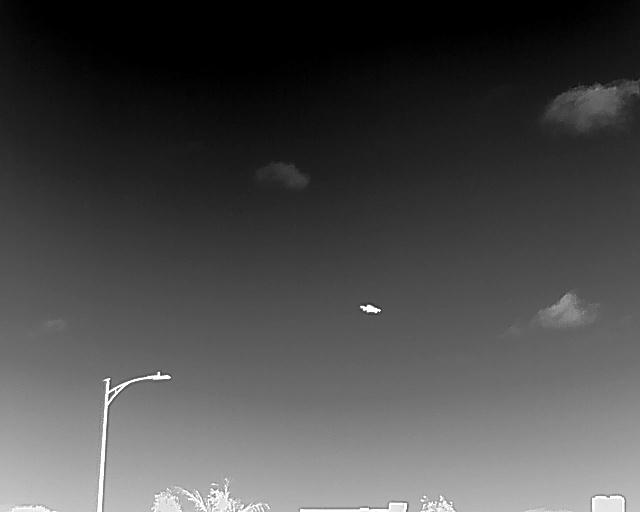fpv-drone: (359, 303, 381, 314)
